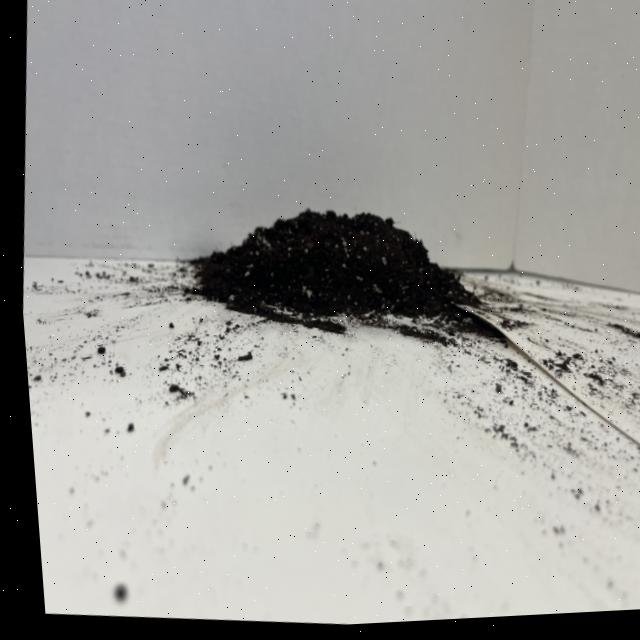soil: (178, 185, 493, 358)
